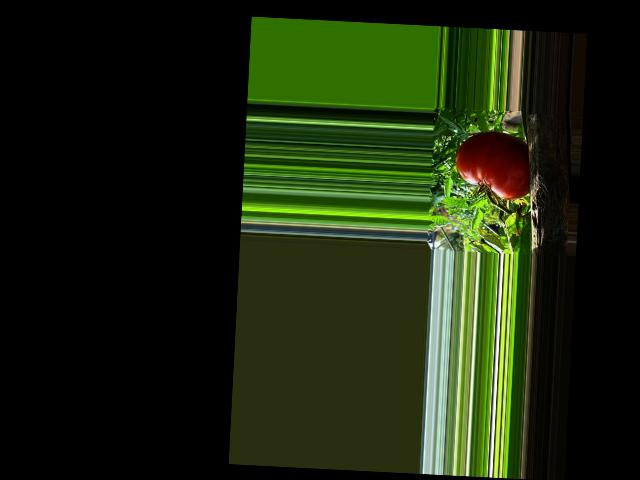tomato: (453, 130, 533, 200)
